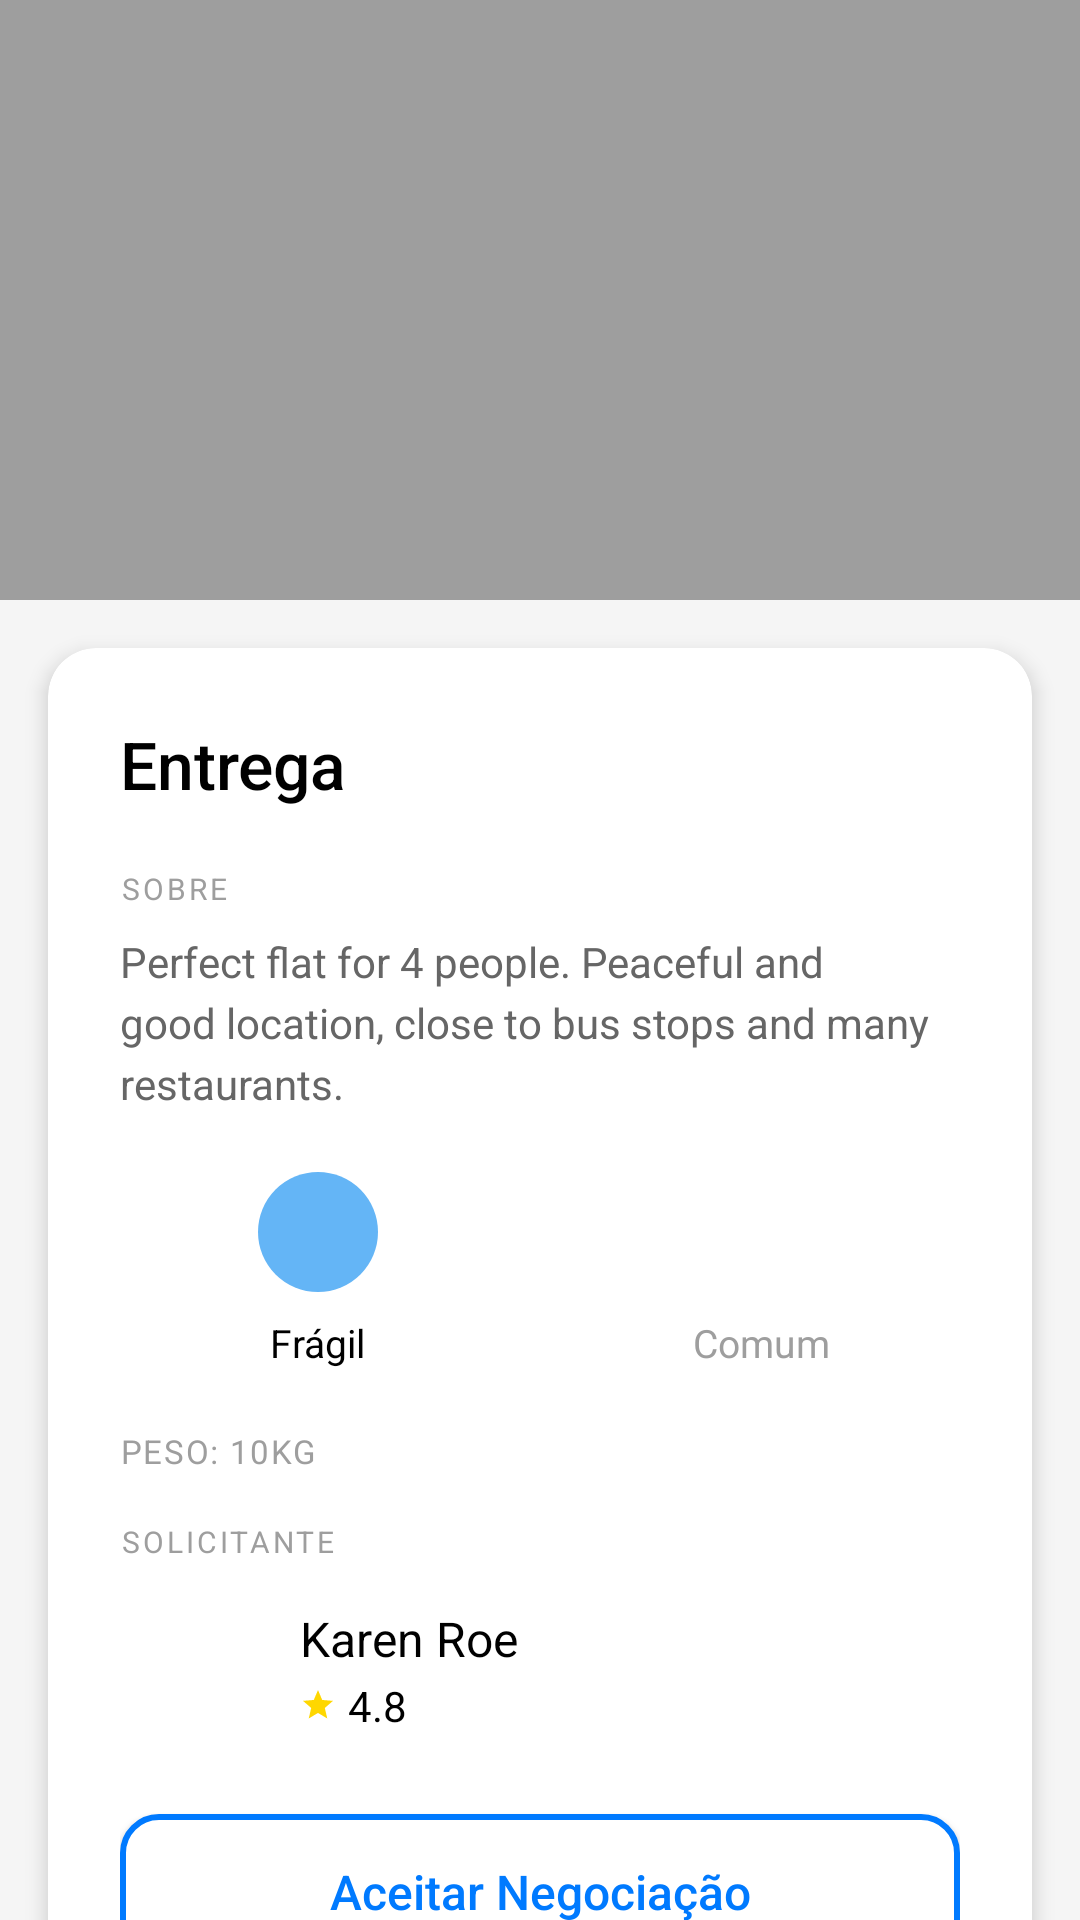

Icons on this 1080w x 1920h Android screen, each with the point to tap as point (x, y):
star: point (318, 1704)
